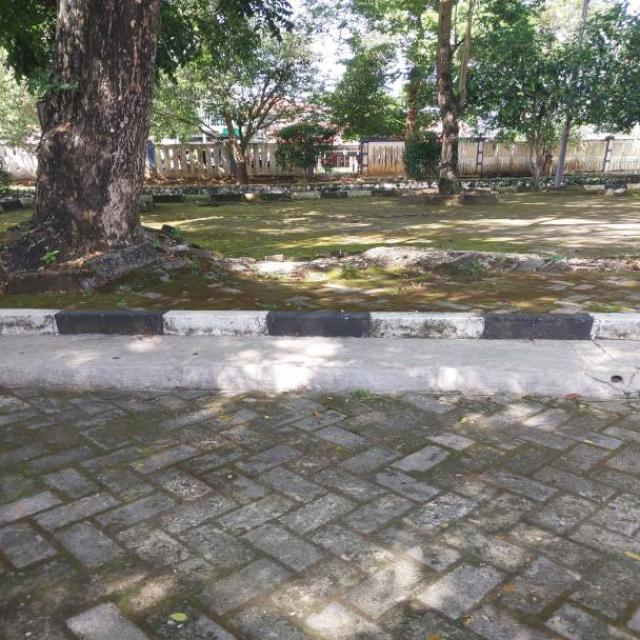tree ahead at: (36, 0, 173, 286)
